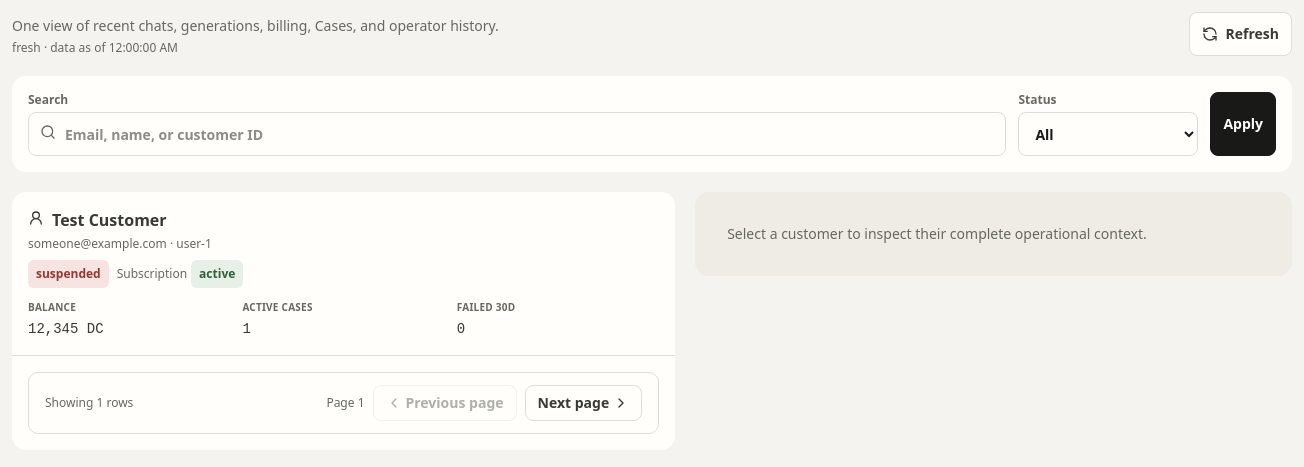
Test: CustomerWorkspace 360 › keeps the returned page position while status is an unapplied draft
Click the button "Next page": (583, 403) [524,385,642,421]
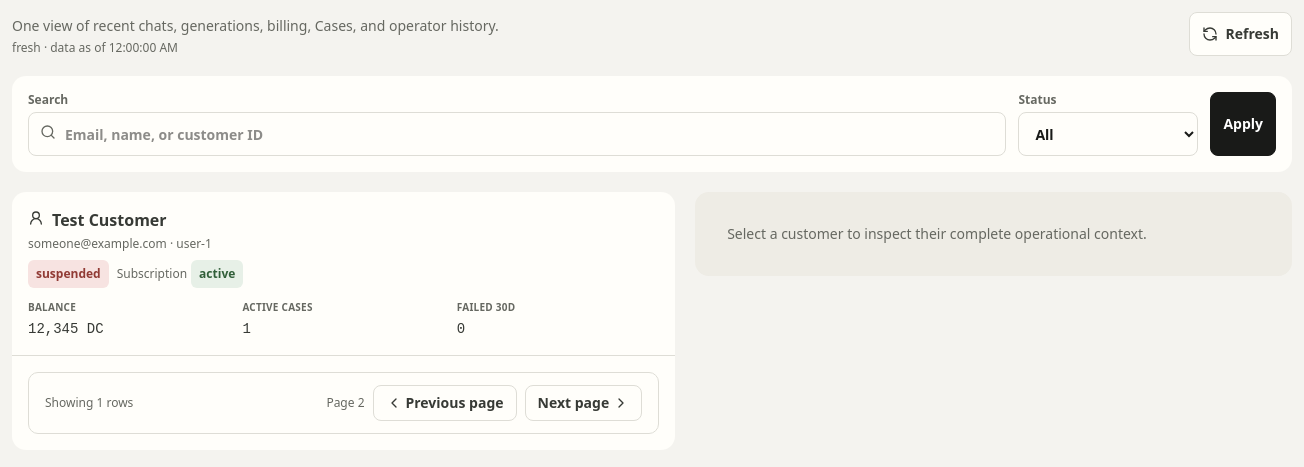
Select "Active" in the dropdown named "Customer status": (1108, 134) [1018,112,1198,156]
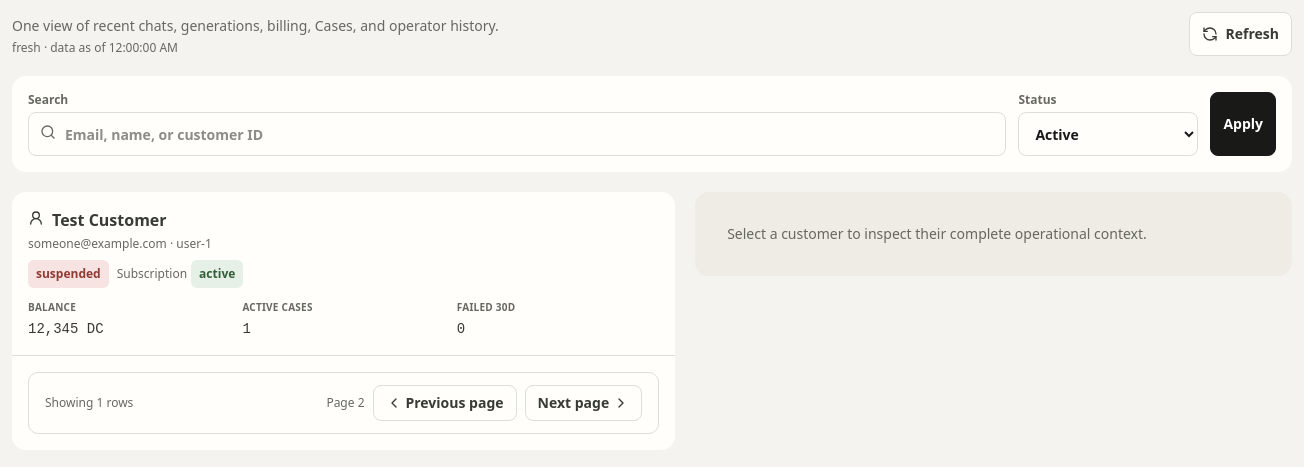
Expected: the text "active" is shown, [191,260,243,288]
Result: the text "Page 2" is shown at [326,395,364,411]
Result: the button "Previous page" is enabled at [372,385,516,421]
Submit the form, box [12,76,1292,172]
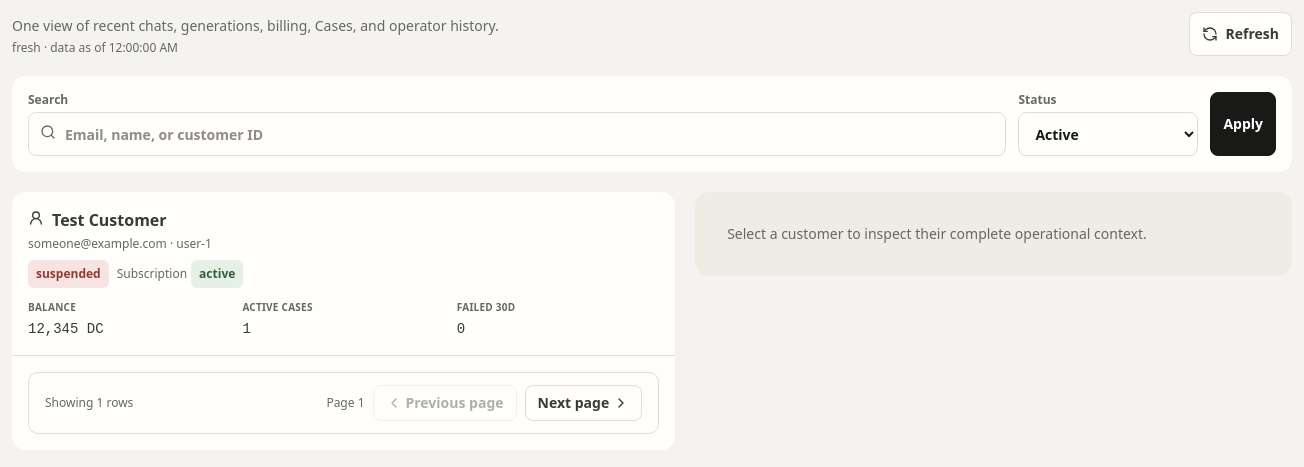
Expected: the text "active" is shown, [191,260,243,288]
Result: the text "Page 1" is shown at [326,395,364,411]
Result: the button "Previous page" is disabled at [372,385,516,421]
